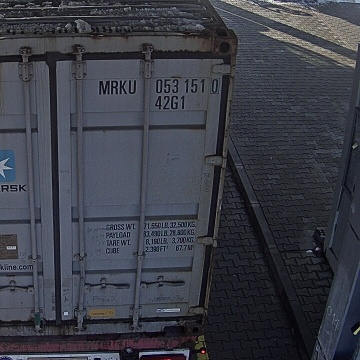serial_id: (99, 79, 219, 94)
